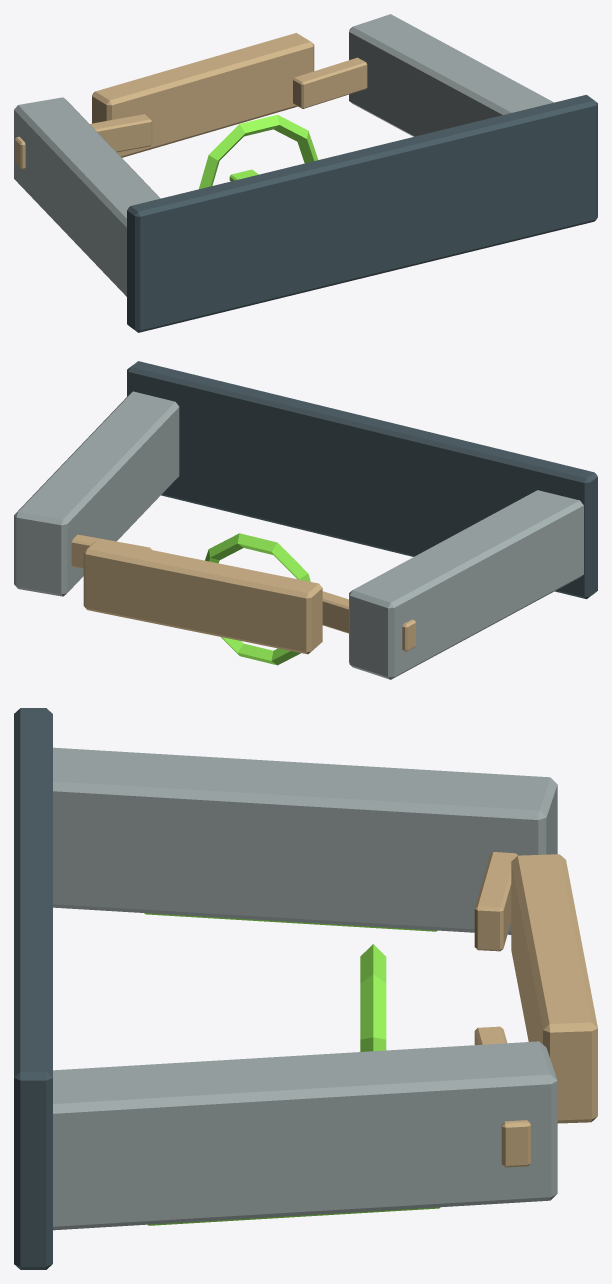
File: RuinGate.fbx
The picture shows the model from 3 angles, top to bottom: view 1: azimuth 30°, elevation 25°; view 2: azimuth 150°, elevation 25°; view 3: azimuth 270°, elevation 25°; orthographic projection. The views are drawn at different scales.
Visible parts, largest first — view 1: GateBase, GatePylon, GatePylon.001, GateBrokenBeam, GateBrace.001, GateSignalRing, GateBrace; view 2: GateBase, GatePylon, GatePylon.001, GateBrokenBeam, GateSignalRing, GateBrace, GateBrace.001; view 3: GatePylon.001, GatePylon, GateBase, GateBrokenBeam, GateBrace, GateSignalRing, GateBrace.001.
Boxes of the visible parts, x1,y1,x2,y2 form: GateBase: (127, 94, 597, 332); GatePylon: (14, 97, 160, 296); GatePylon.001: (349, 14, 553, 136); GateBrokenBeam: (92, 33, 314, 157); GateBrace.001: (293, 57, 367, 108); GateSignalRing: (199, 114, 318, 189); GateBrace: (14, 114, 152, 169); GateBase: (127, 361, 597, 599); GatePylon: (349, 490, 583, 679); GatePylon.001: (14, 391, 179, 596); GateBrokenBeam: (83, 539, 322, 654); GateSignalRing: (205, 533, 310, 665); GateBrace: (322, 591, 415, 651); GateBrace.001: (71, 534, 151, 568); GatePylon.001: (53, 1041, 557, 1230); GatePylon: (53, 747, 557, 934); GateBase: (14, 708, 52, 1269); GateBrokenBeam: (511, 854, 597, 1123); GateBrace: (474, 852, 517, 951); GateSignalRing: (360, 944, 386, 1051); GateBrace.001: (474, 1026, 530, 1167).
Size of the model in its own units: 540 by 184 by 361.
